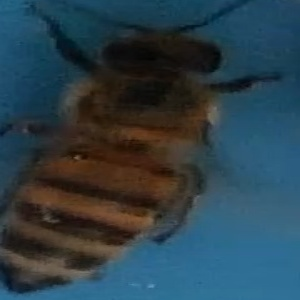bee: (7, 6, 282, 293)
